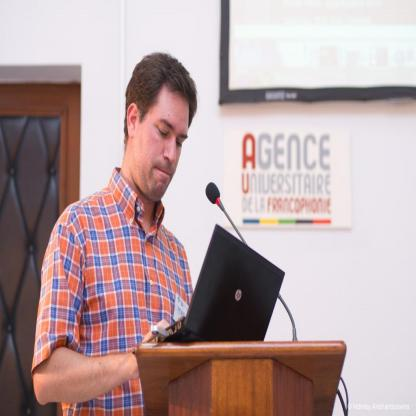board: (132, 224, 286, 355)
